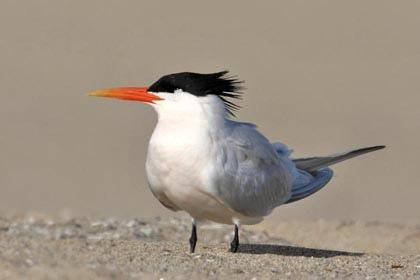bird: (88, 68, 387, 255)
